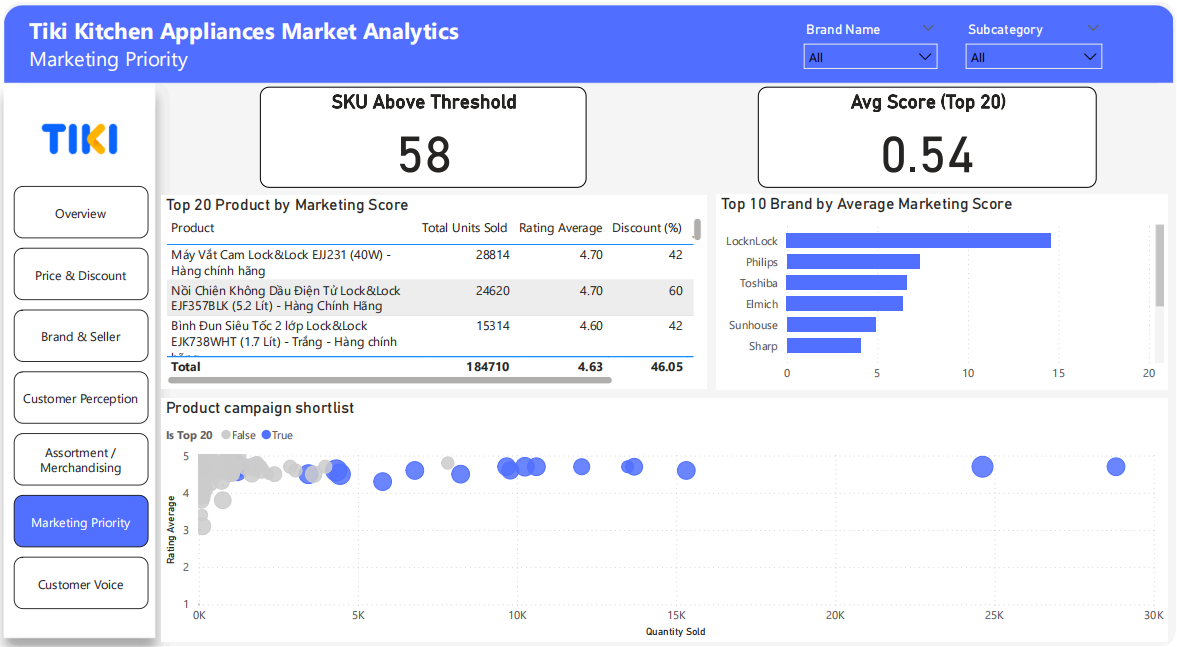

This screenshot's page, from the dashboard's own definition file:
{"tool":"powerbi","page":{"name":"Marketing Priority","canvas":[1280,720],"ordinal":5},"visuals":[{"type":"textbox","box":[38.6,24.3,904.3,78.6],"z":0},{"type":"card","title":"SKU Above Threshold","fields":{"Values":["_Measures.SKU Above Threshold Count"]},"box":[289.5,106.2,349.9,107.4],"z":1000},{"type":"card","title":"Avg Score (Top 20)","fields":{"Values":["fact_product_metrics.Avg Marketing Score (Top 20)"]},"box":[821.6,106.2,361.9,107.4],"z":2000},{"type":"tableEx","title":"Top 20 Product by Marketing Score","fields":{"Values":["dim_product.product_name","_Measures.Total Units Sold","Avg(fact_product_metrics.rating_average)","Avg(fact_product_metrics.discount_rate)","Avg(fact_product_metrics.Marketing Score)"]},"box":[184.6,222,582.7,207.5],"z":5000},{"type":"clusteredBarChart","title":"Top 10 Brand by Average Marketing Score","fields":{"Category":["dim_brand.brand_name"],"Y":["Sum(fact_product_metrics.Brand Avg Marketing Score)"]},"box":[777.6,220.7,481.9,209.2],"z":6000},{"type":"scatterChart","title":"Product campaign shortlist","fields":{"X":["Avg(fact_product_metrics.quantity_sold_value)"],"Y":["Avg(fact_product_metrics.rating_average)"],"Size":["Avg(fact_product_metrics.discount_rate_calc)"],"Series":["fact_product_metrics.Is Top 20"],"Category":["dim_product.product_name"]},"box":[185,438.8,1075,260],"z":7000},{"type":"slicer","fields":{"Values":["dim_brand.brand_name"]},"box":[861.3,31.7,163,63.5],"z":8000},{"type":"slicer","fields":{"Values":["dim_subcategory.subcategory_name"]},"box":[1034.5,31.7,165.9,63.5],"z":9000},{"type":"pageNavigator","box":[27,211.9,143.6,456.5],"z":10000}]}

Visuals, with their boxes in screenshot pixels (x1, y1, x2, y2), scaled from the page's 1280x720 canvas onto the 1177x647 screenshot:
textbox: {"x1": 35, "y1": 22, "x2": 867, "y2": 92}
"SKU Above Threshold" card: {"x1": 266, "y1": 95, "x2": 588, "y2": 192}
"Avg Score (Top 20)" card: {"x1": 755, "y1": 95, "x2": 1088, "y2": 192}
"Top 20 Product by Marketing Score" tableEx: {"x1": 170, "y1": 199, "x2": 706, "y2": 386}
"Top 10 Brand by Average Marketing Score" clusteredBarChart: {"x1": 715, "y1": 198, "x2": 1158, "y2": 386}
"Product campaign shortlist" scatterChart: {"x1": 170, "y1": 394, "x2": 1159, "y2": 628}
slicer - dim_brand.brand_name: {"x1": 792, "y1": 28, "x2": 942, "y2": 86}
slicer - dim_subcategory.subcategory_name: {"x1": 951, "y1": 28, "x2": 1104, "y2": 86}
pageNavigator: {"x1": 25, "y1": 190, "x2": 157, "y2": 601}
